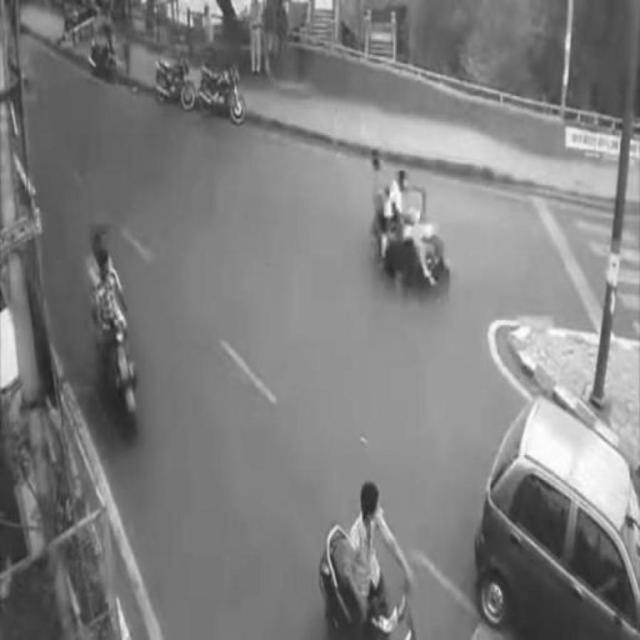accident: (364, 150, 454, 292)
vehicle: (479, 393, 639, 635), (325, 480, 419, 640), (81, 225, 152, 435), (194, 59, 248, 123), (152, 56, 194, 110)
